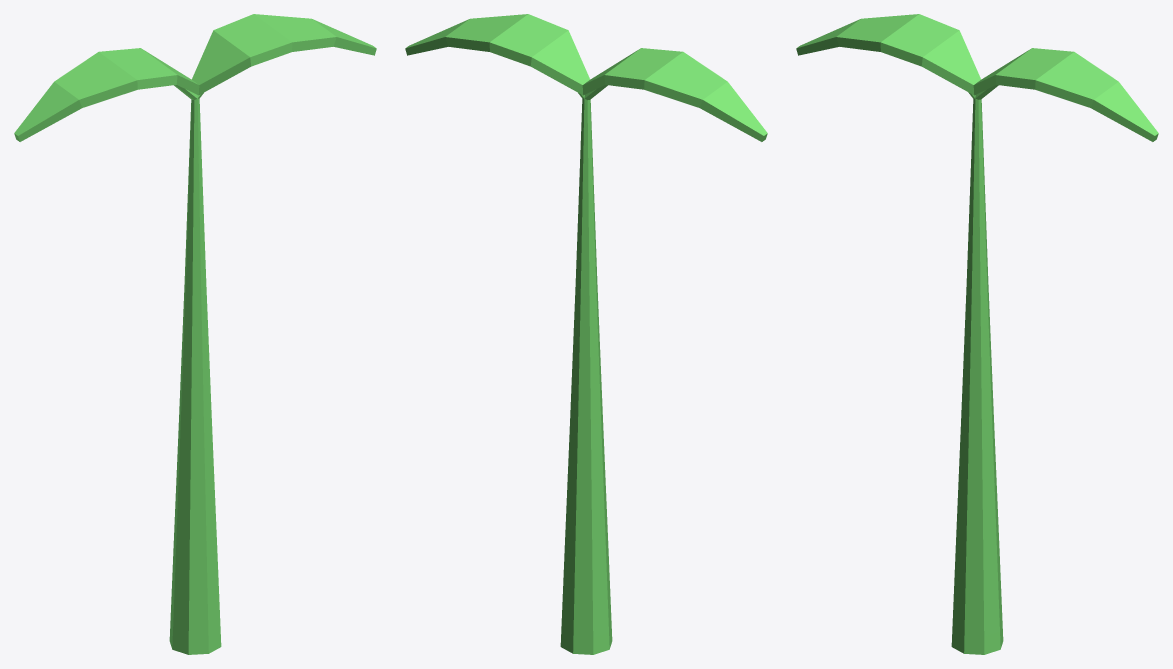
File: Tree_1.fbx
The picture shows the model from 3 angles, left to right: view 1: azimuth 30°, elevation 25°; view 2: azimuth 150°, elevation 25°; view 3: azimuth 330°, elevation 25°; orthographic projection.
Visible parts, largest first — view 1: Tree_1; view 2: Tree_1; view 3: Tree_1.
Boxes of the visible parts, x1,y1,x2,y2 form: Tree_1: (14, 14, 376, 654); Tree_1: (405, 14, 767, 654); Tree_1: (796, 14, 1158, 654).
Size of the model in its own units: 234 by 373 by 43.89.
